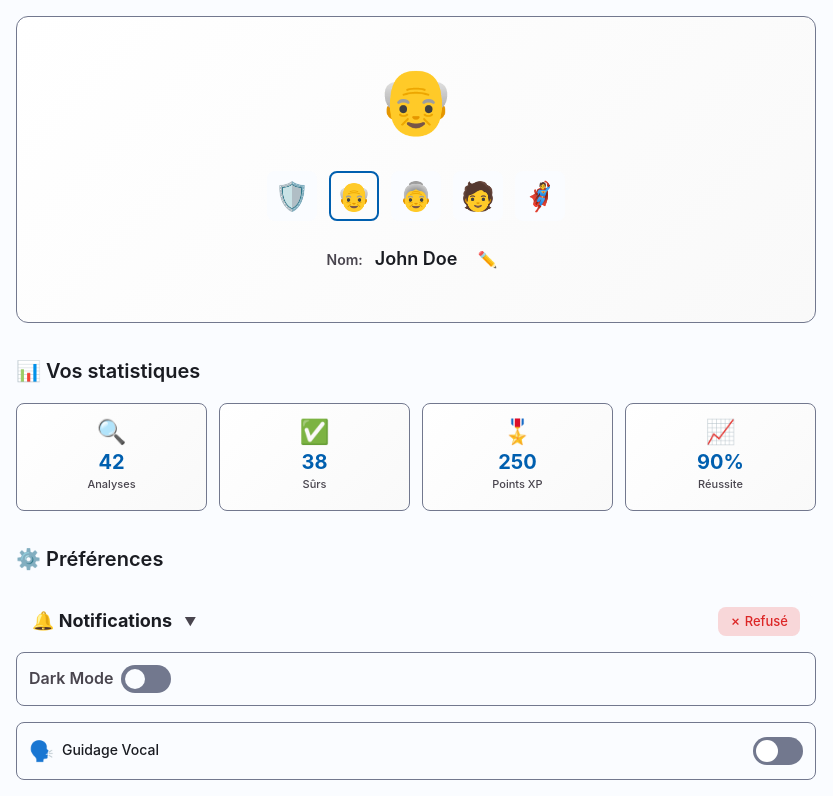
Test case: AccountProfile Component › Name Editing › should enter edit mode when edit button clicked
The image size is (833, 796).
Click the button with class "btn-edit" at (487, 260), box [469,246,505,273]
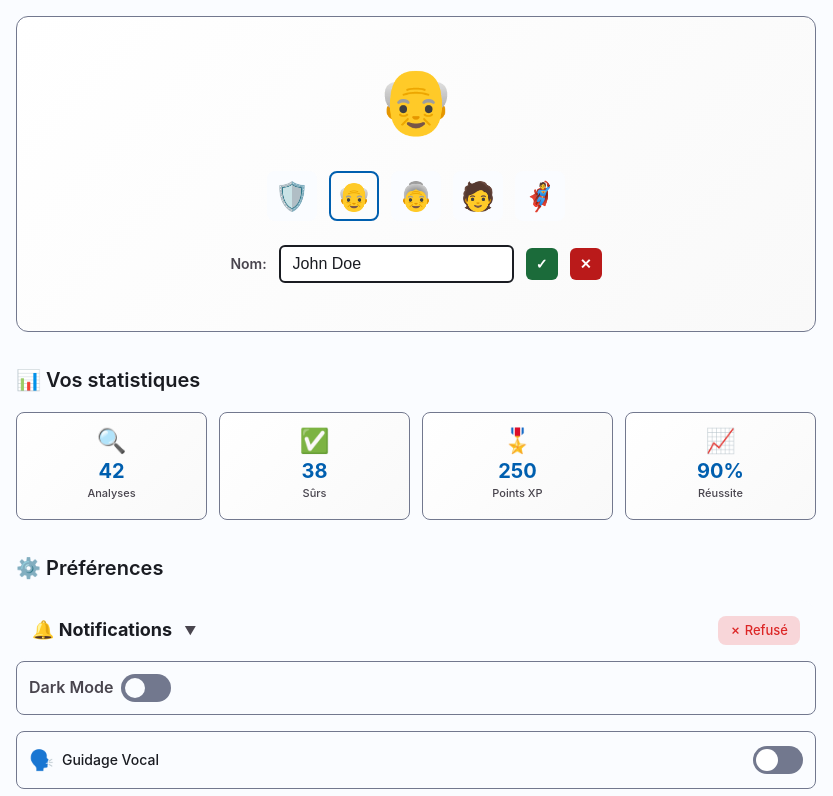
Check: the field with class "name-input" holds "John Doe", box [279,245,514,283]
